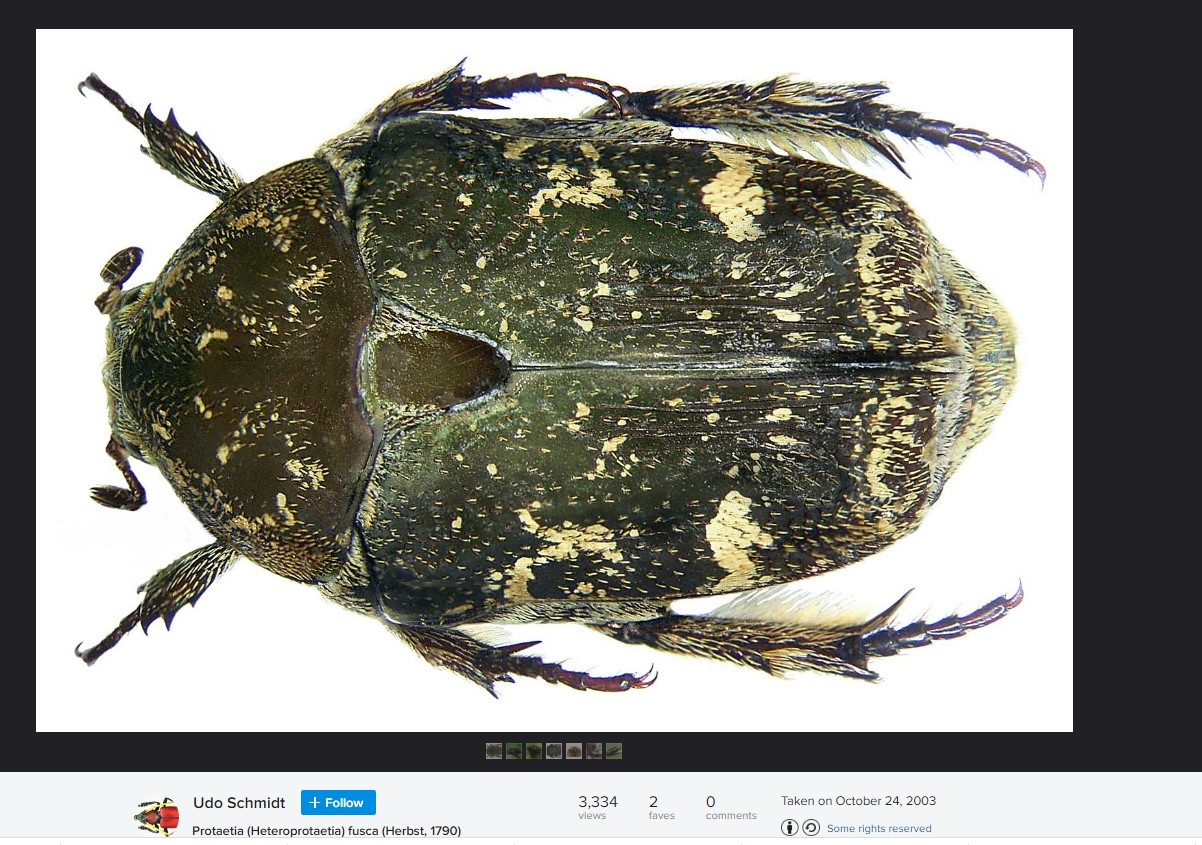Protaetia_fusca: (59, 65, 1049, 695)
